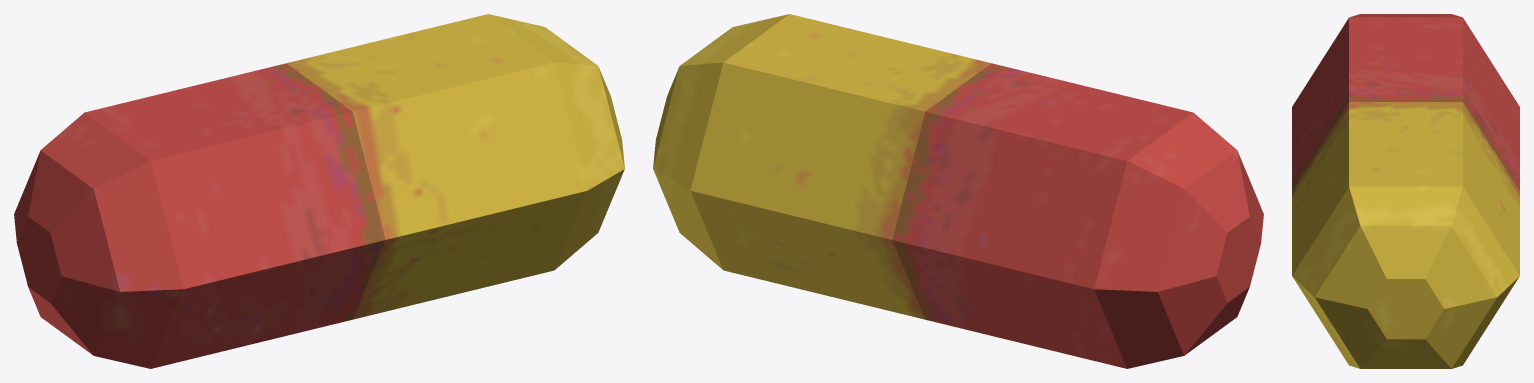
The model's file is pill.fbx.
3 renders of one model, left to right at view 1: azimuth 30°, elevation 25°; view 2: azimuth 150°, elevation 25°; view 3: azimuth 270°, elevation 25°, orthographic. The views are drawn at different scales.
Visible parts, largest first — view 1: Pill; view 2: Pill; view 3: Pill.
Boxes of the visible parts, bbox=[...] form: Pill: bbox=[14, 14, 624, 368]; Pill: bbox=[653, 14, 1263, 368]; Pill: bbox=[1292, 14, 1519, 368].
Bounding box in the file's own units: 46.21 × 16.39 × 18.92.
1 material, 1 textured.
